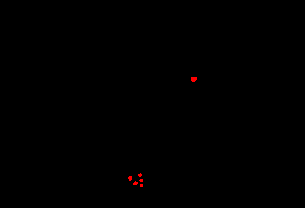Target: (191, 77, 197, 82), (128, 176, 132, 181), (133, 181, 138, 185), (138, 173, 142, 177), (139, 179, 143, 182), (140, 184, 143, 187)
